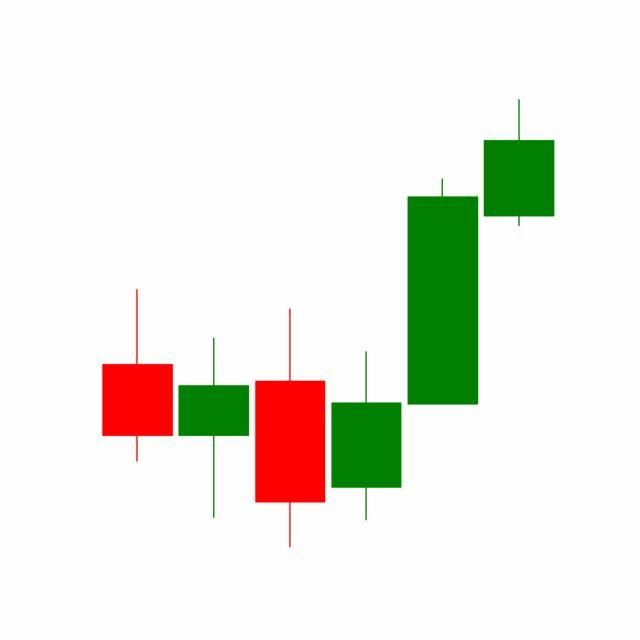Three Inside Up-Down: (252, 174, 482, 548)
